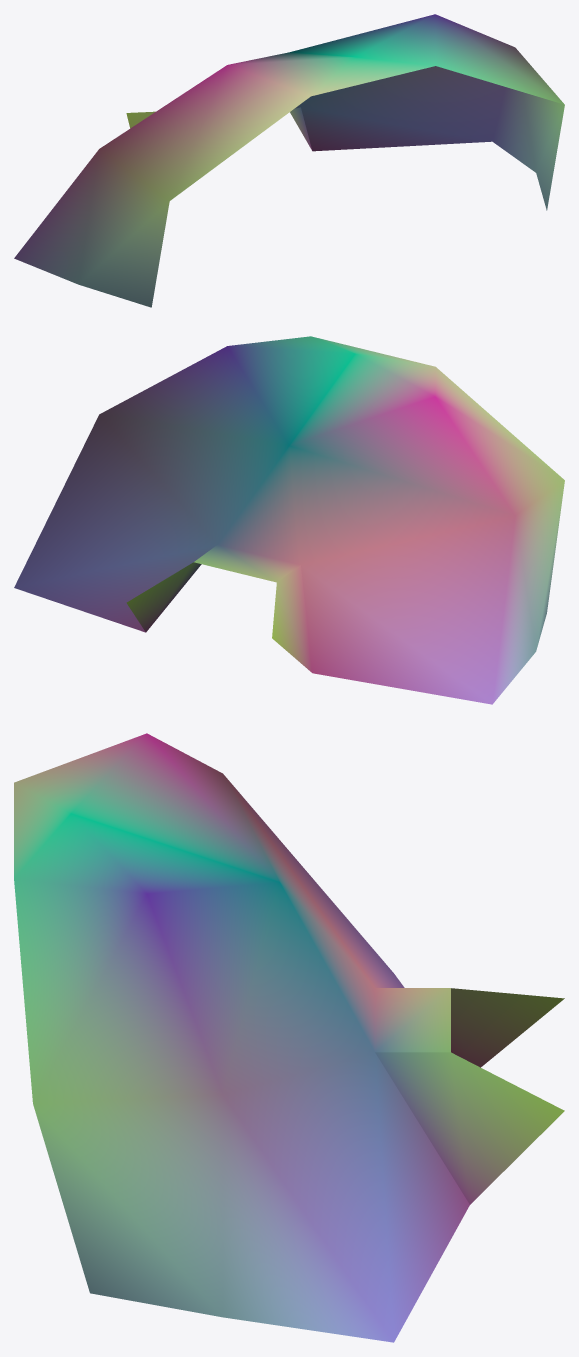
The picture shows the model from 3 angles, top to bottom: view 1: azimuth 30°, elevation 25°; view 2: azimuth 150°, elevation 25°; view 3: azimuth 270°, elevation 25°; orthographic projection. The views are drawn at different scales.
Visible parts, largest first — view 1: part; view 2: part; view 3: part.
Boxes of the visible parts, x1=… form: part: x1=14, y1=14, x2=564, y2=307; part: x1=14, y1=336, x2=564, y2=704; part: x1=14, y1=733, x2=564, y2=1342.
Size of the model in its own units: 46 by 20 by 29.
